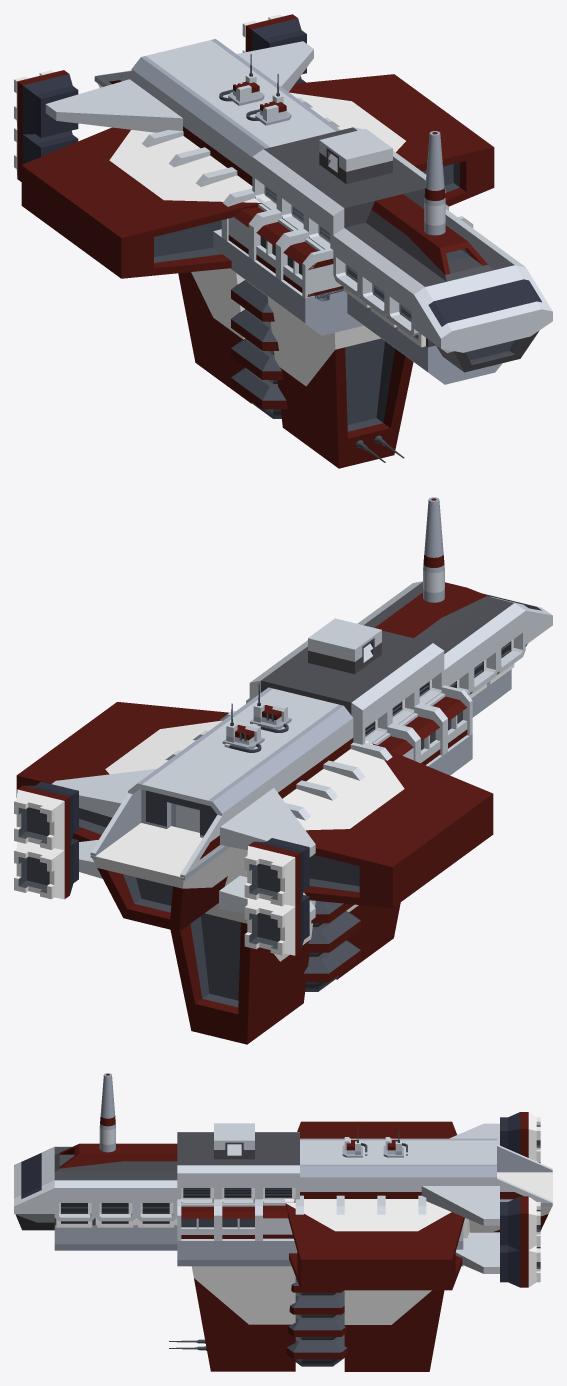
File: cargo_lourd_3.glb
3 renders of one model, top to bottom at view 1: azimuth 30°, elevation 25°; view 2: azimuth 150°, elevation 25°; view 3: azimuth 270°, elevation 25°, orthographic. The views are drawn at different scales.
Parts seen in each view (by area): view 1: mergedBlocks(Clone); view 2: mergedBlocks(Clone); view 3: mergedBlocks(Clone).
Boxes of the visible parts, x1,y1,x2,y2 form: mergedBlocks(Clone): [14, 14, 552, 468]; mergedBlocks(Clone): [14, 497, 552, 1044]; mergedBlocks(Clone): [14, 1073, 552, 1371].
Size of the model in its own units: 7.99 by 7.74 by 13.2.
Materials: 1 (1 with a texture image).
